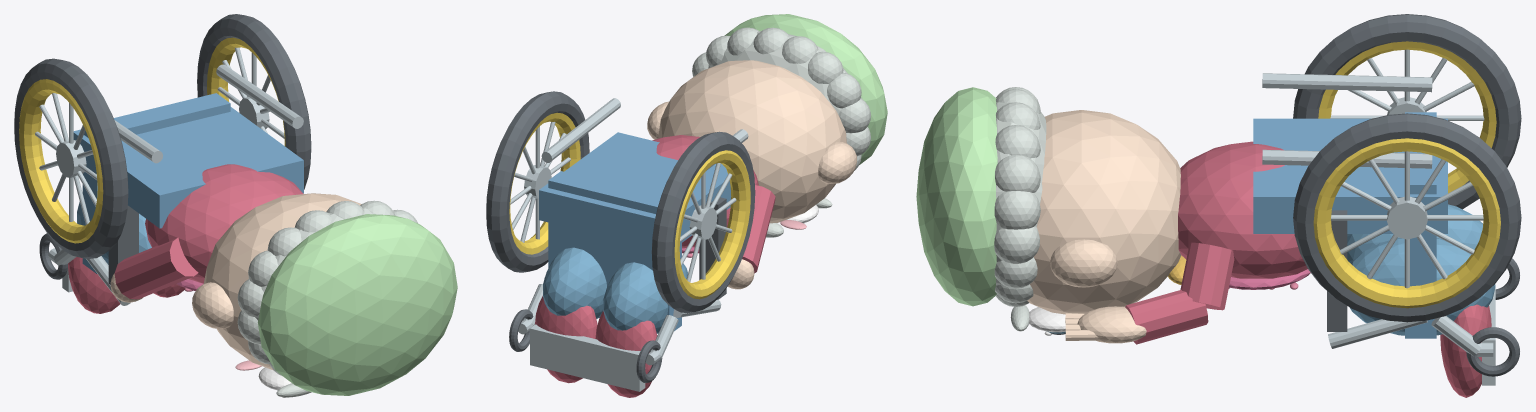
File: grandpa_wheelchair.glb
3 renders of one model, left to right at view 1: azimuth 30°, elevation 25°; view 2: azimuth 150°, elevation 25°; view 3: azimuth 270°, elevation 25°, orthographic. The views are drawn at different scales.
Parts seen in each view (by area): view 1: grandpa_part_108, grandpa_part_000, grandpa_part_002, grandpa_part_049, grandpa_part_087, grandpa_part_017, grandpa_part_003, grandpa_part_078, grandpa_part_001, grandpa_part_046, grandpa_part_088, grandpa_part_041 (+15 smaller); view 2: grandpa_part_087, grandpa_part_000, grandpa_part_002, grandpa_part_017, grandpa_part_001, grandpa_part_044, grandpa_part_108, grandpa_part_003, grandpa_part_047, grandpa_part_045, grandpa_part_048, grandpa_part_046 (+22 smaller); view 3: grandpa_part_087, grandpa_part_108, grandpa_part_017, grandpa_part_049, grandpa_part_000, grandpa_part_002, grandpa_part_018, grandpa_part_047, grandpa_part_003, grandpa_part_080, grandpa_part_081, grandpa_part_035 (+23 smaller).
Part boxes in pixels (x1,y1,x2,y2): grandpa_part_108: [257, 214, 457, 395]; grandpa_part_000: [73, 107, 303, 228]; grandpa_part_002: [14, 58, 128, 258]; grandpa_part_049: [145, 164, 303, 283]; grandpa_part_087: [203, 193, 361, 369]; grandpa_part_017: [197, 14, 311, 189]; grandpa_part_003: [19, 79, 103, 243]; grandpa_part_078: [114, 237, 198, 299]; grandpa_part_001: [82, 93, 230, 273]; grandpa_part_046: [68, 257, 120, 313]; grandpa_part_088: [192, 282, 233, 328]; grandpa_part_041: [216, 64, 303, 128]; grandpa_part_087: [658, 60, 846, 223]; grandpa_part_000: [539, 132, 731, 247]; grandpa_part_002: [651, 131, 755, 313]; grandpa_part_017: [486, 91, 589, 272]; grandpa_part_001: [548, 171, 681, 331]; grandpa_part_044: [530, 324, 645, 391]; grandpa_part_108: [724, 14, 887, 164]; grandpa_part_003: [674, 150, 750, 299]; grandpa_part_047: [543, 247, 606, 318]; grandpa_part_045: [603, 262, 687, 333]; grandpa_part_048: [535, 296, 597, 383]; grandpa_part_046: [595, 311, 657, 397]; grandpa_part_087: [1027, 110, 1181, 314]; grandpa_part_108: [916, 87, 997, 306]; grandpa_part_017: [1293, 113, 1521, 322]; grandpa_part_049: [1178, 141, 1307, 278]; grandpa_part_000: [1253, 118, 1447, 233]; grandpa_part_002: [1293, 14, 1521, 209]; grandpa_part_018: [1313, 138, 1500, 308]; grandpa_part_047: [1349, 238, 1495, 335]; grandpa_part_003: [1318, 41, 1496, 193]; grandpa_part_080: [1180, 242, 1234, 310]; grandpa_part_081: [1125, 289, 1208, 344]; grandpa_part_035: [1262, 73, 1432, 92].
Size of the model in its own units: 1.34 by 1.52 by 2.68.
